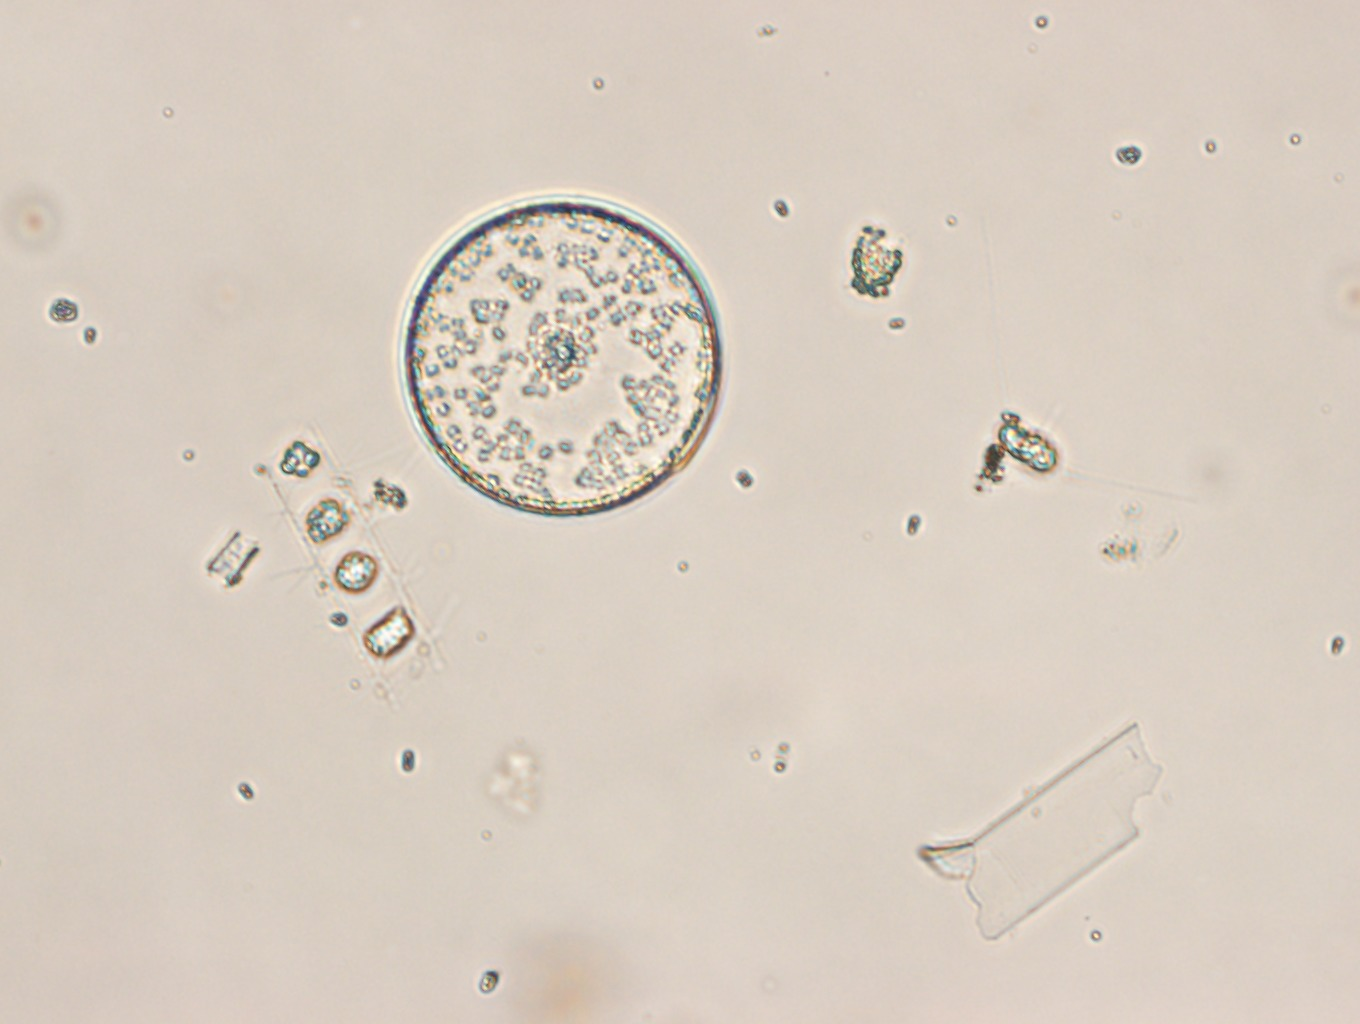chaetoceros: (216, 430, 482, 727)
coscinodiscus: (382, 189, 744, 516)
